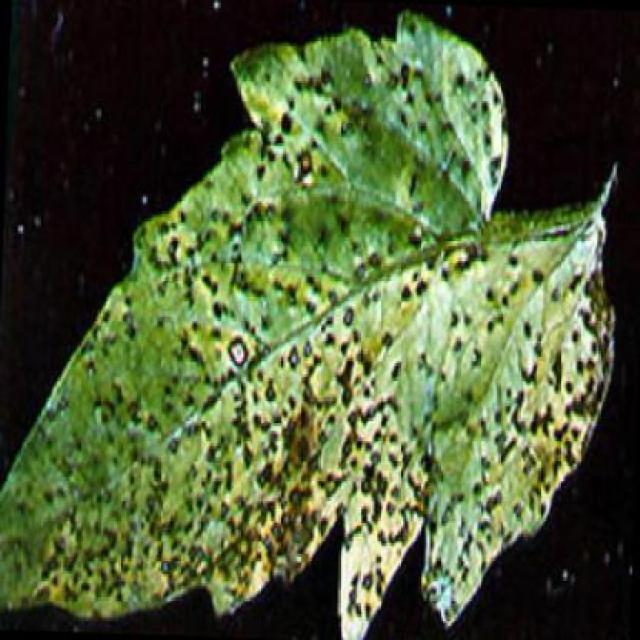Septoria leaf spot: (1, 2, 639, 639)
